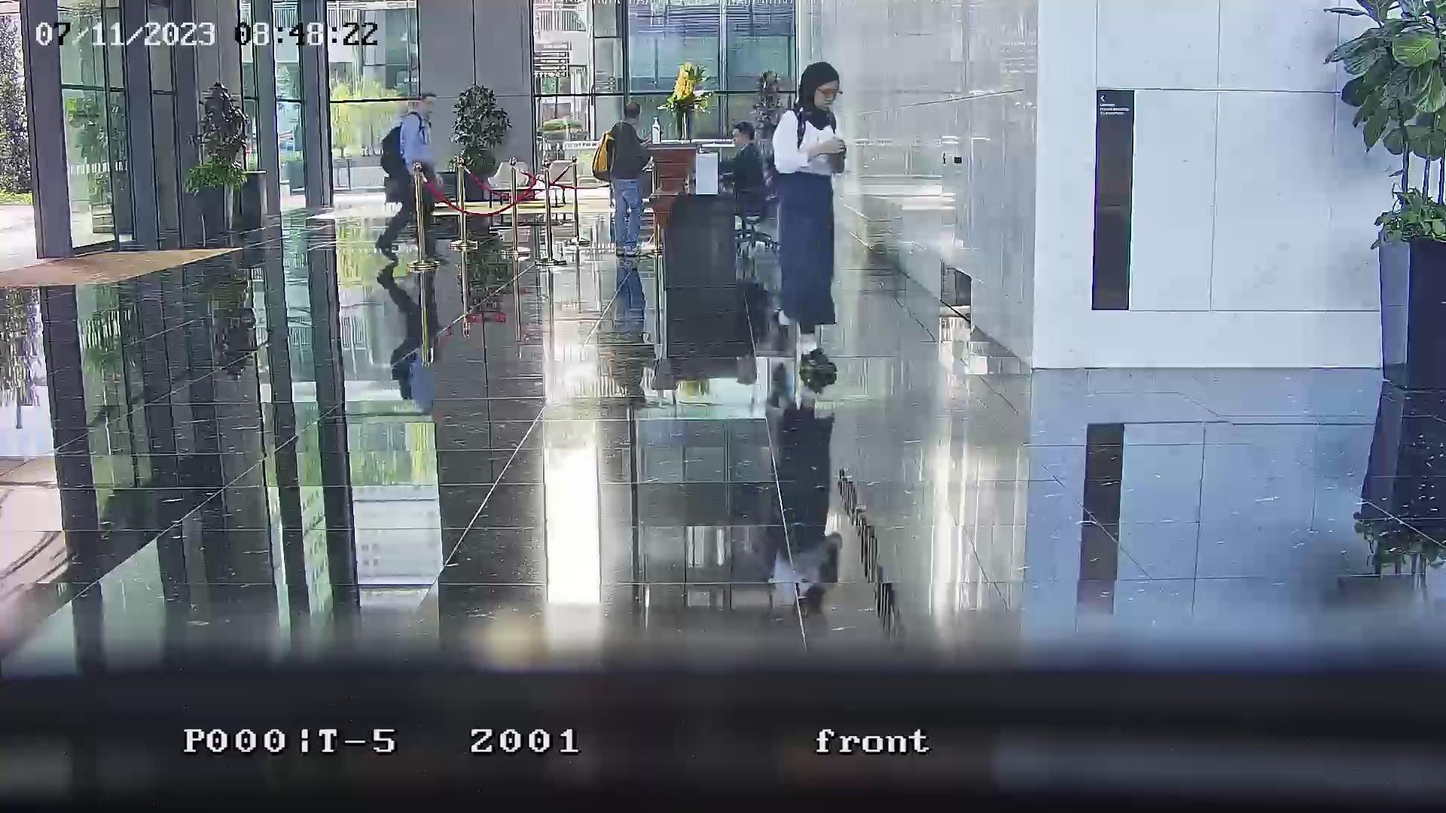person: (771, 62, 848, 348), (374, 92, 440, 258), (604, 101, 652, 257), (724, 120, 767, 225)
